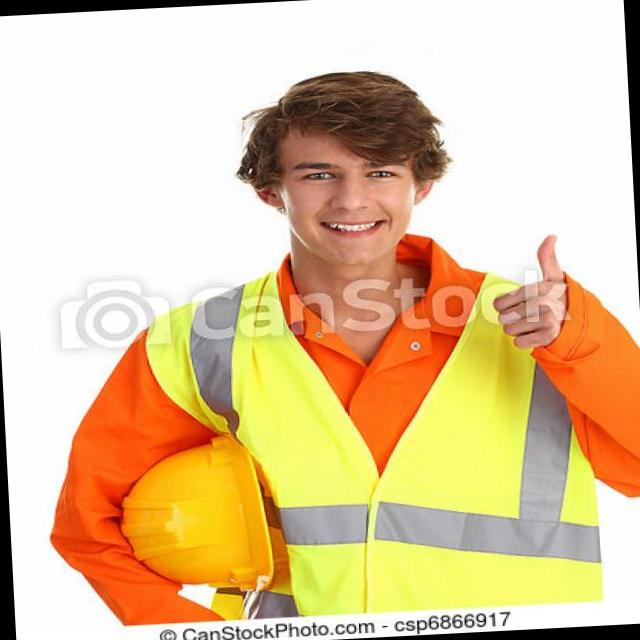Helmet: (116, 442, 274, 590)
Vest: (156, 262, 603, 620)
